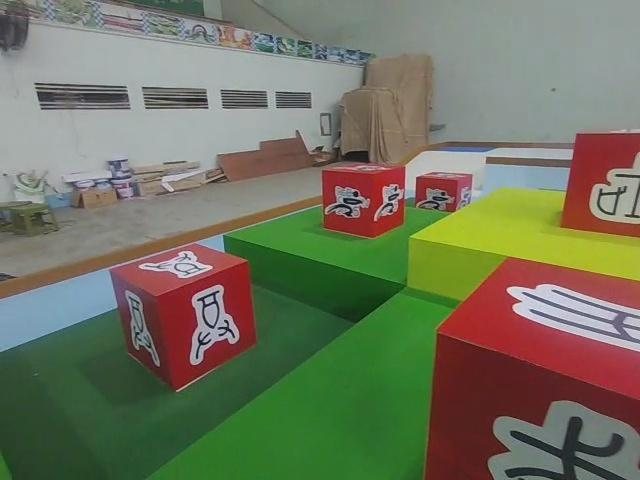R1: (317, 163, 407, 243), (415, 169, 472, 217)
R2 Fake: (422, 256, 640, 480)
R2 Real: (104, 242, 266, 391), (557, 133, 640, 237)
